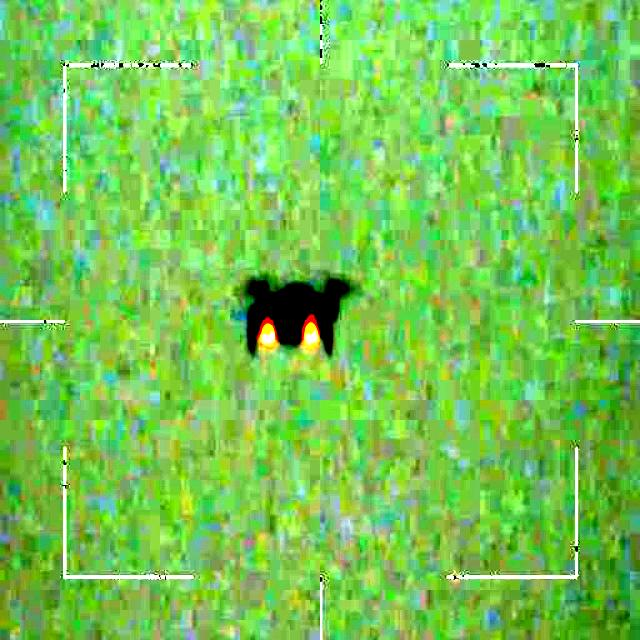bird: (242, 275, 350, 356)
